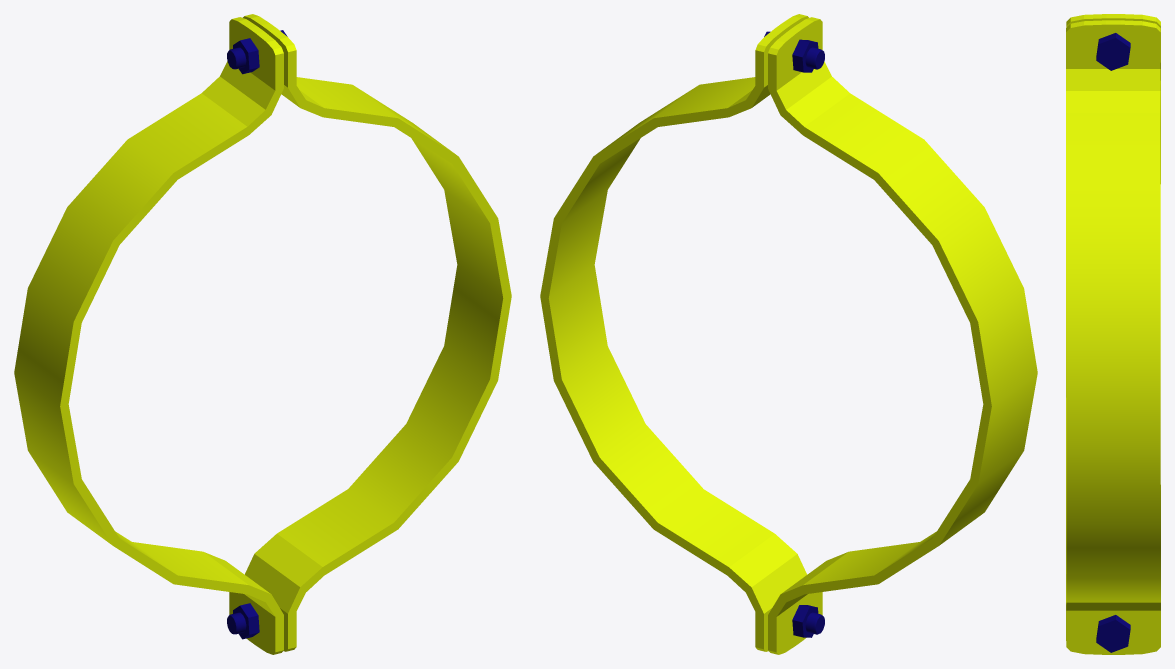
File: sSupport_01.FBX
3 views of the same model, side by side, from view 1: azimuth 30°, elevation 25°; view 2: azimuth 150°, elevation 25°; view 3: azimuth 270°, elevation 25° (orthographic). The views are drawn at different scales.
Parts seen in each view (by area): view 1: Support_02_Low003, Bolt003; view 2: Support_02_Low003, Bolt003; view 3: Support_02_Low003, Bolt003.
Part boxes in pixels (x1,y1,x2,y2): Support_02_Low003: [14, 14, 511, 654]; Bolt003: [227, 30, 287, 639]; Support_02_Low003: [540, 14, 1037, 654]; Bolt003: [764, 31, 824, 637]; Support_02_Low003: [1066, 14, 1160, 654]; Bolt003: [1096, 33, 1130, 652].
Size of the model in its own units: 16.01 by 20.72 by 2.82.
